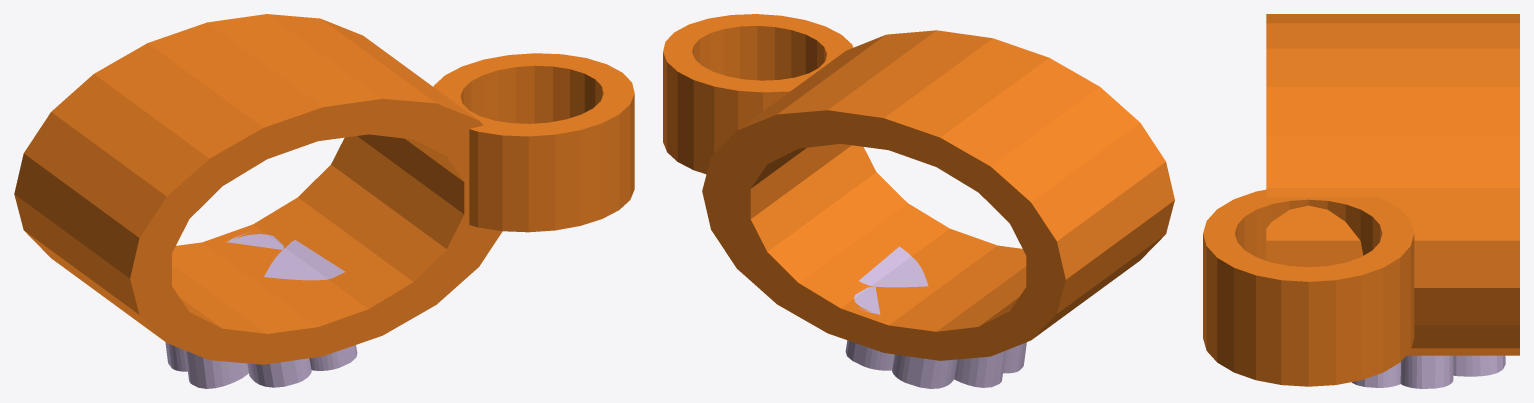
File: tinker.obj
3 views of the same model, side by side, from view 1: azimuth 30°, elevation 25°; view 2: azimuth 150°, elevation 25°; view 3: azimuth 270°, elevation 25° (orthographic). The views are drawn at different scales.
Visible parts, largest first — view 1: group_0_16089887, group_0_13877221; view 2: group_0_16089887, group_0_13877221; view 3: group_0_16089887, group_0_13877221.
Boxes of the visible parts, bbox=[...] form: group_0_16089887: bbox=[14, 14, 634, 364]; group_0_13877221: bbox=[165, 232, 357, 388]; group_0_16089887: bbox=[663, 14, 1174, 360]; group_0_13877221: bbox=[845, 246, 1026, 388]; group_0_16089887: bbox=[1203, 14, 1519, 386]; group_0_13877221: bbox=[1351, 355, 1505, 388].
Size of the model in its own units: 49 by 27 by 24.
